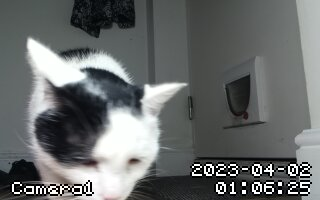bad: (24, 36, 187, 200)
